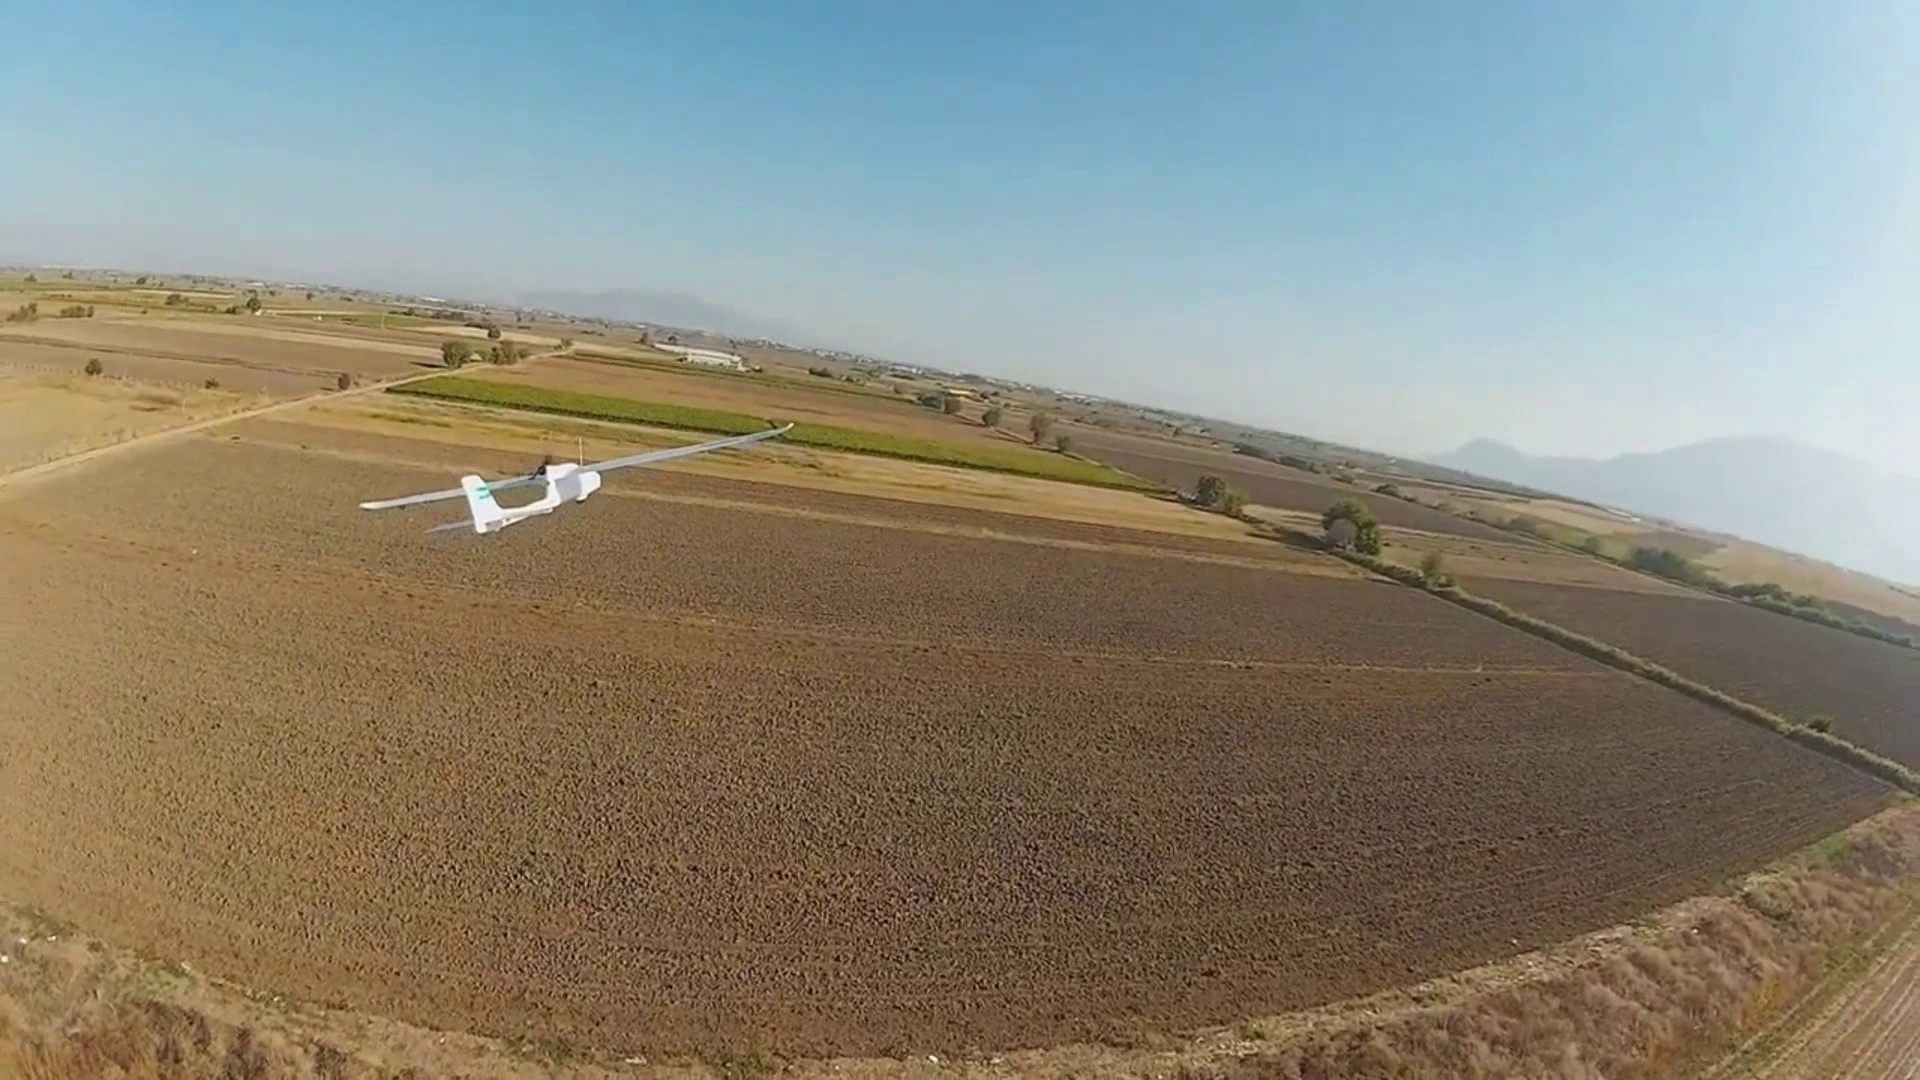airplane: (357, 459, 601, 535)
